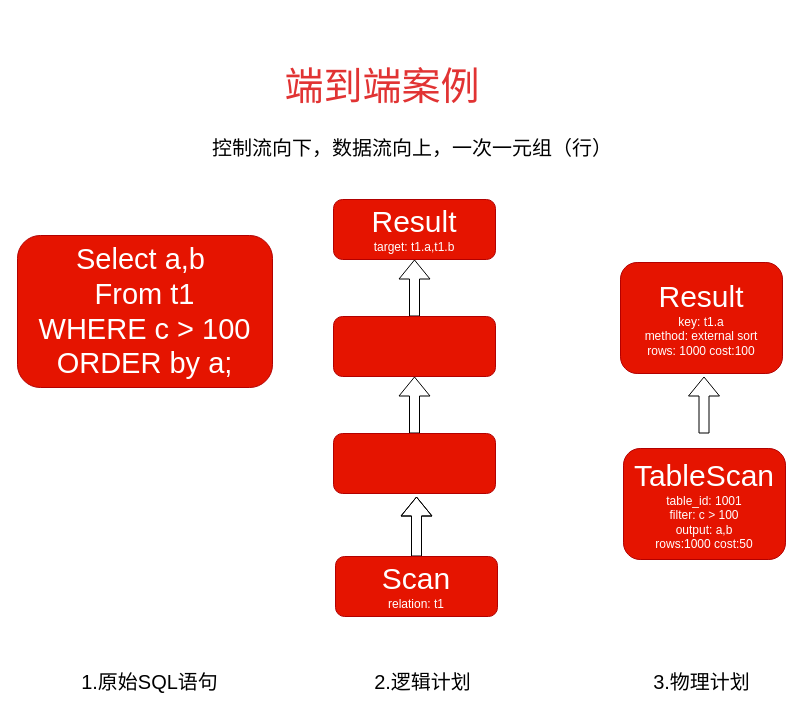
The diagram is 803 pixels wide and 713 high, and some of its shapes have lost their labels. Here are the shapes that lost their labels. From the top down, the box of each, then its label:
(332, 316, 496, 376): Sort key: t1.a ASC
(332, 432, 496, 494): Filter condition: t1.c > 100
